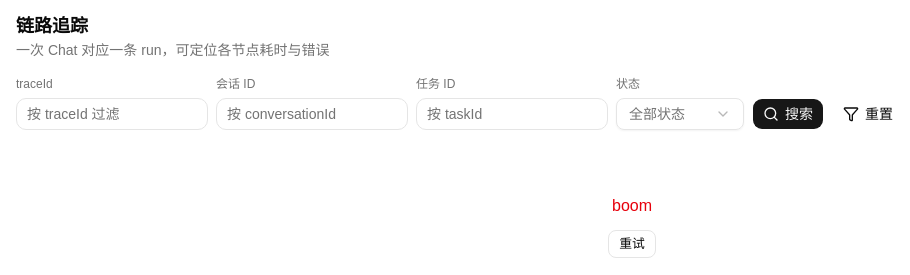
Scenario: TraceListPage › 失败显示错误态并可重试
Expected: the message shows "boom", [612,197,652,214]
Step 1. Click the button "重试" → [632, 244], box [608,230,656,258]
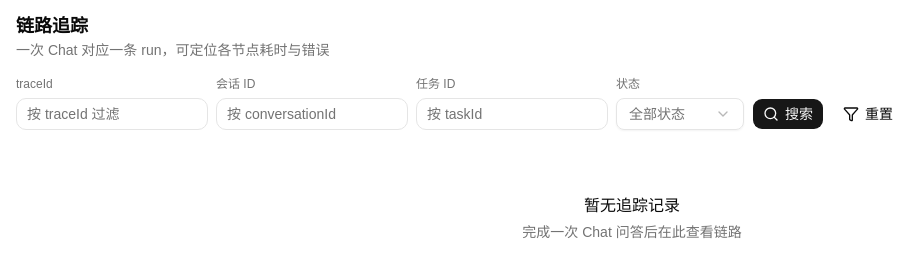
Now the text "暂无追踪记录" is shown, box [584,194,680,218]
